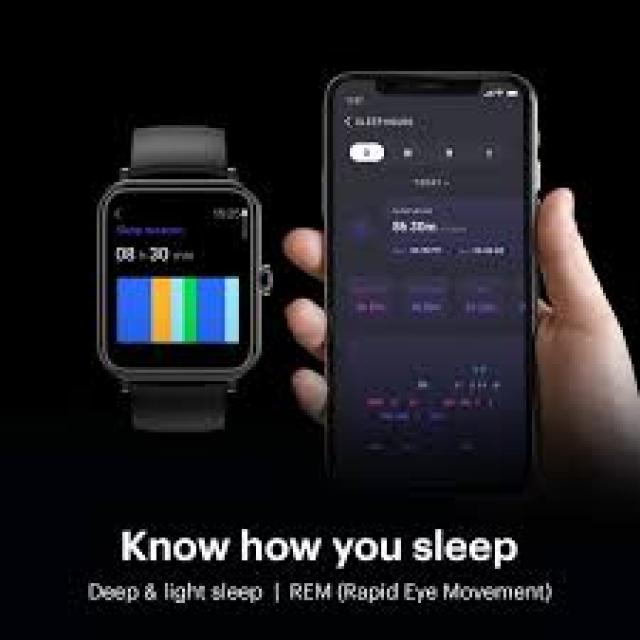objects: (97, 128, 265, 430)
